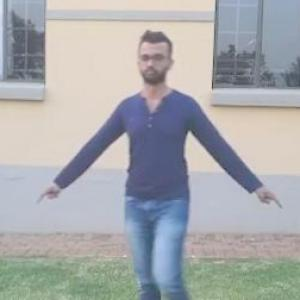land: (63, 45, 256, 299)
